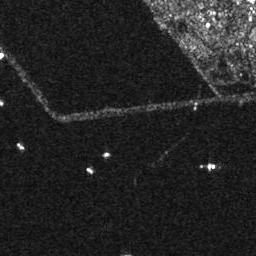ship: (205, 163, 217, 171), (16, 142, 25, 151), (85, 166, 94, 175), (102, 151, 111, 159)
